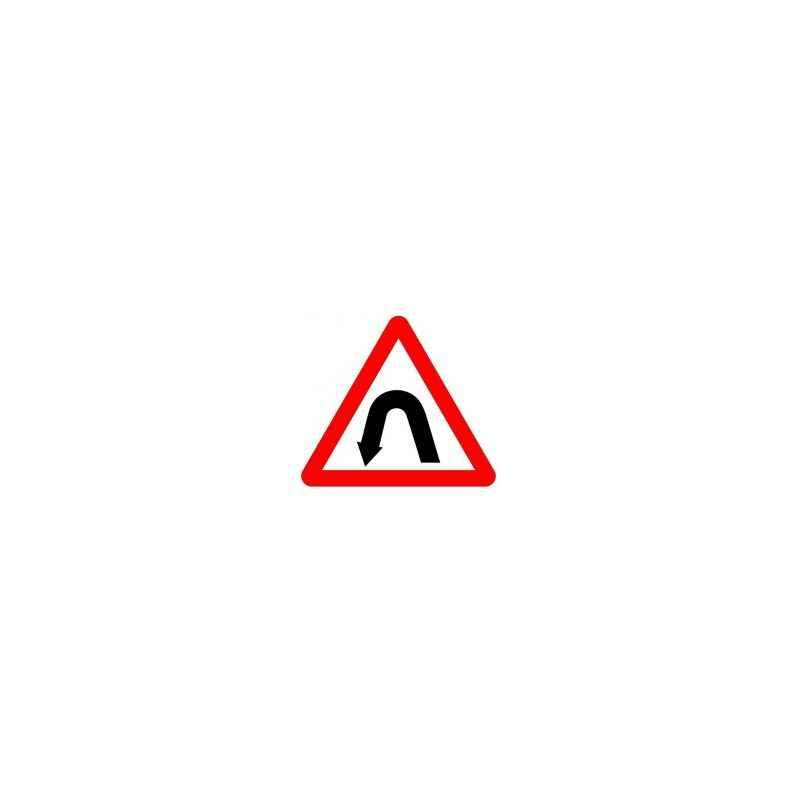Left Hair Pin Bend: (280, 270, 527, 528)
